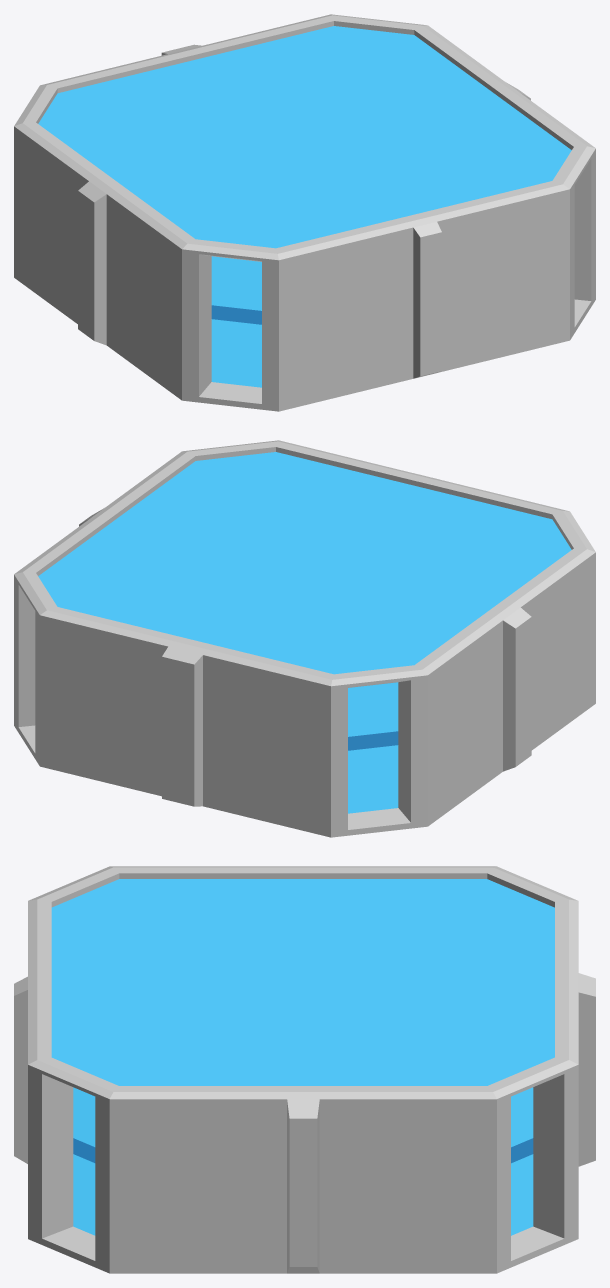
The model's file is HologramTable.fbx.
3 views of the same model, one above another, from view 1: azimuth 30°, elevation 25°; view 2: azimuth 150°, elevation 25°; view 3: azimuth 270°, elevation 25° (orthographic). The views are drawn at different scales.
Parts seen in each view (by area): view 1: HologramTable; view 2: HologramTable; view 3: HologramTable.
Part boxes in pixels (<box>): HologramTable: <box>14,14,595,411</box>; HologramTable: <box>14,440,595,837</box>; HologramTable: <box>14,866,595,1273</box>.
Bounding box in the file's own units: 239 × 80 × 238.
